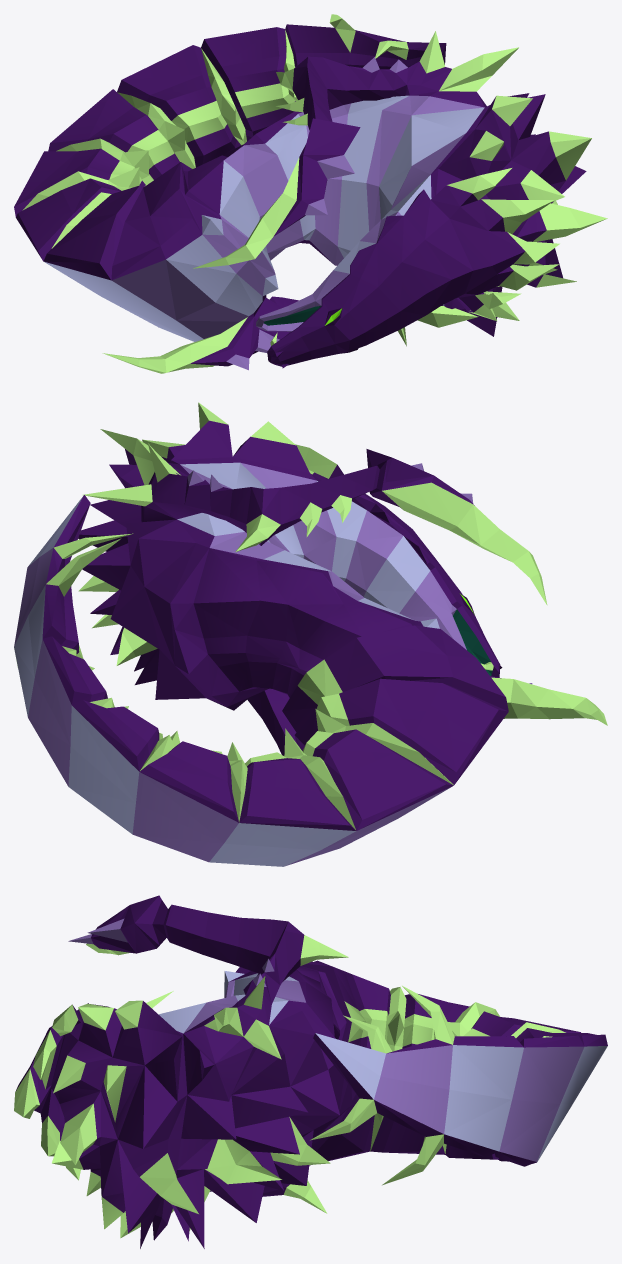
Rendered from Dead (35).obj.
The picture shows the model from 3 angles, top to bottom: view 1: azimuth 30°, elevation 25°; view 2: azimuth 150°, elevation 25°; view 3: azimuth 270°, elevation 25°; orthographic projection. The views are drawn at different scales.
Parts seen in each view (by area): view 1: Alien_Serpent; view 2: Alien_Serpent; view 3: Alien_Serpent.
Part boxes in pixels (x1,y1,x2,y2): Alien_Serpent: (14,14,607,373); Alien_Serpent: (14,402,607,866); Alien_Serpent: (14,895,607,1248).
Size of the model in its own units: 235 by 142 by 244.
1 material, 1 textured.
